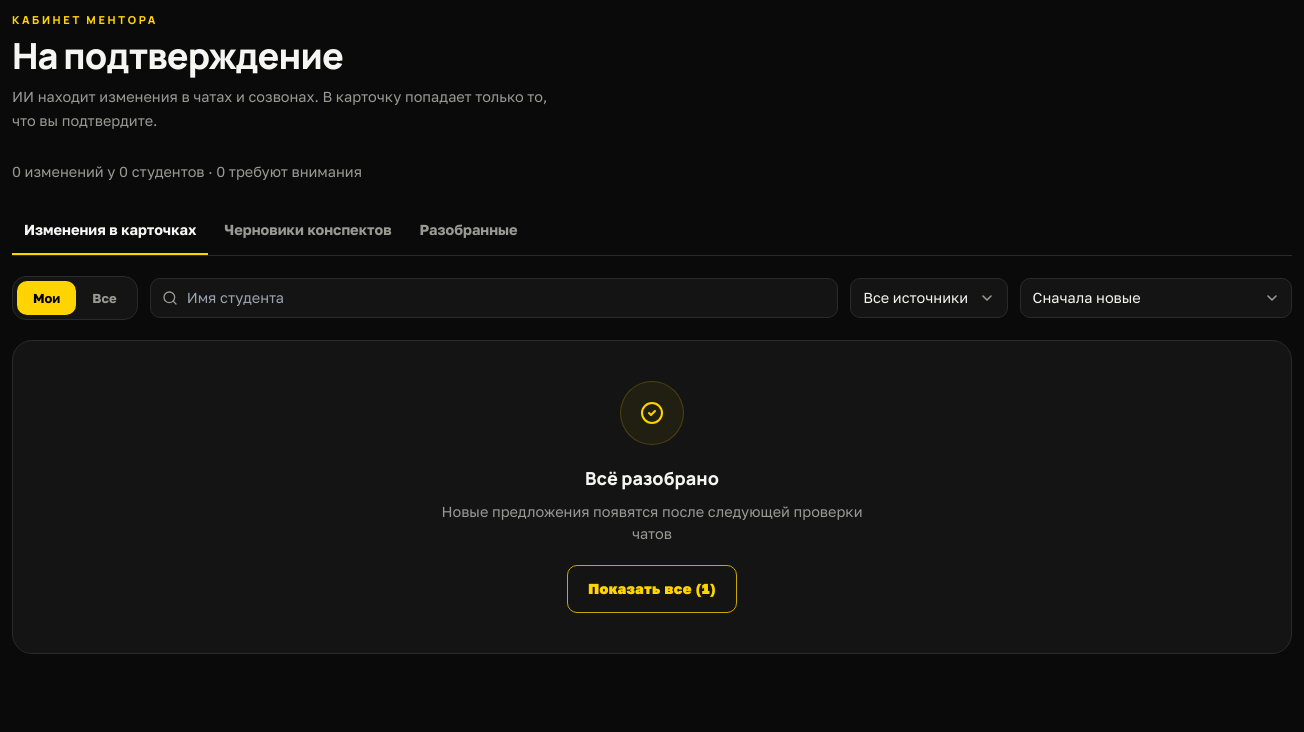
Test: пустое Мои предлагает Все с фактическим счётчиком
Check: the text "Всё разобрано" is shown, box top-left (585, 468), bottom-right (719, 488)
Click the button "Показать все (1)": {"x": 652, "y": 588} top-left (567, 564), bottom-right (737, 612)
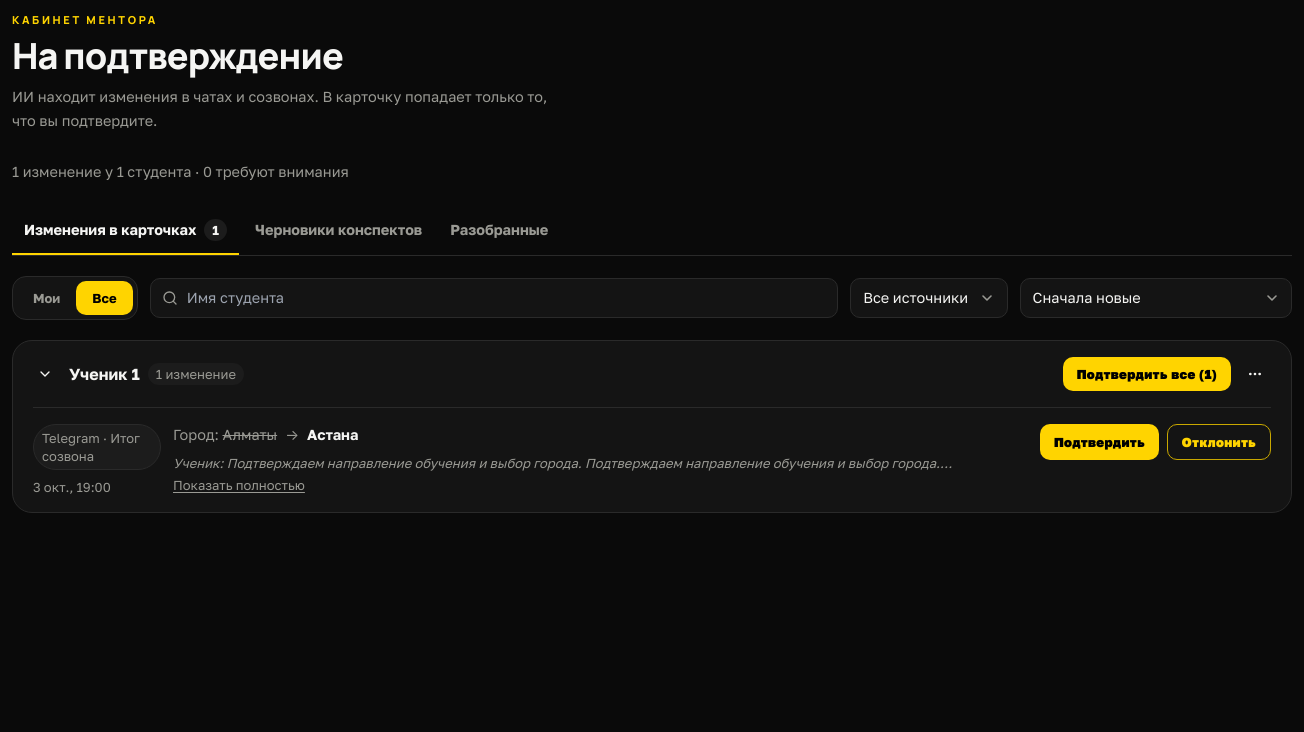
Check: the link "Ученик 1" is shown, box top-left (69, 362), bottom-right (140, 386)
